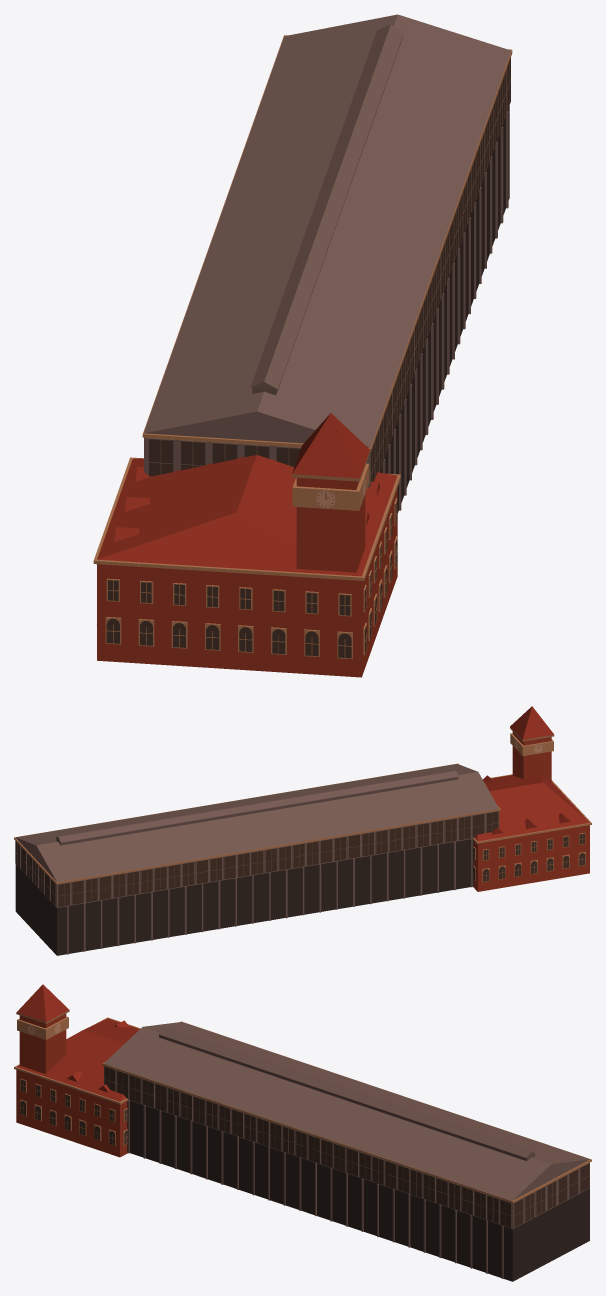
Rendered from main-street-station.glb.
3 renders of one model, top to bottom at view 1: azimuth 30°, elevation 25°; view 2: azimuth 150°, elevation 25°; view 3: azimuth 270°, elevation 25°, orthographic. The views are drawn at different scales.
Visible parts, largest first — view 1: headhouse; view 2: headhouse; view 3: headhouse.
Part boxes in pixels (x1=…): headhouse: x1=93, y1=14, x2=512, y2=677; headhouse: x1=14, y1=706, x2=591, y2=955; headhouse: x1=14, y1=984, x2=591, y2=1281.
Bounding box in the file's own units: 151 × 45.5 × 174.
